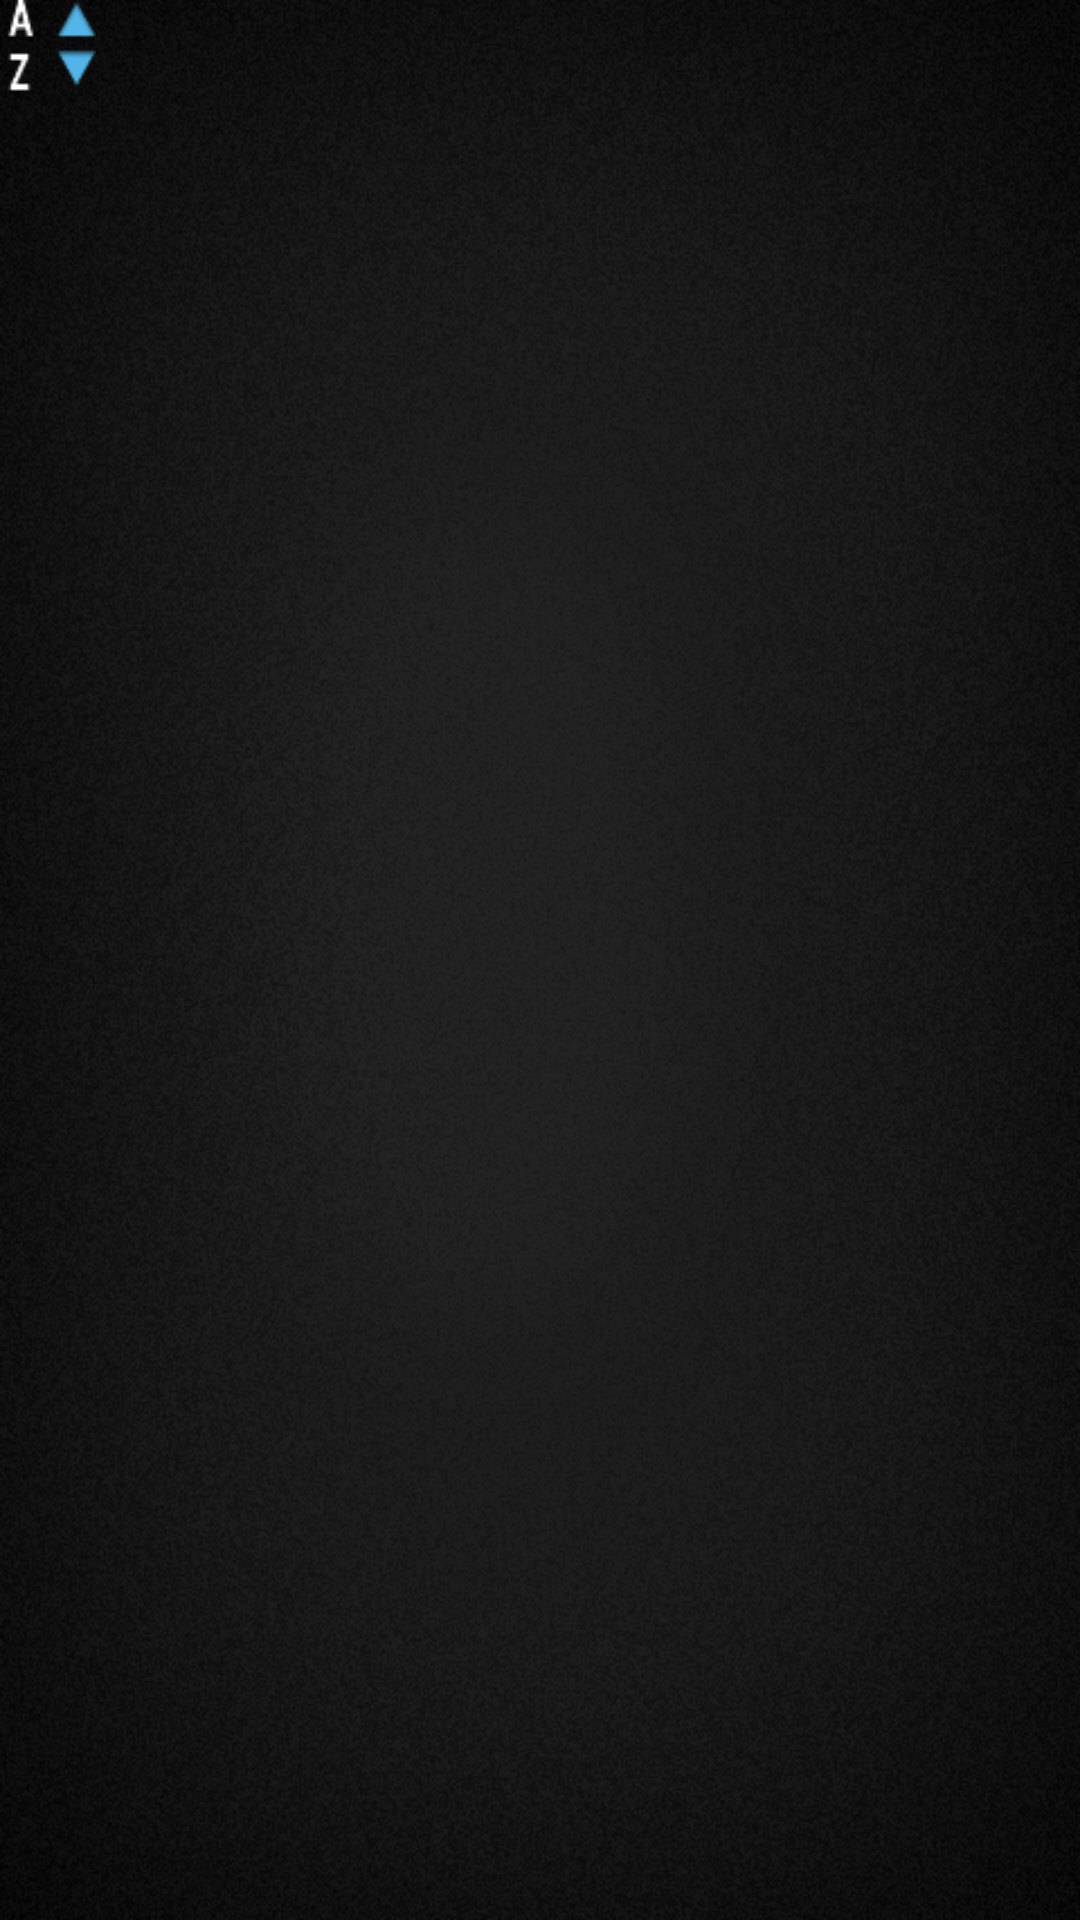

Named icons in this screenshot (1080×1920) and their bounding boxes, (x1, y1, x2, y2):
contact list order: (8, 0, 96, 91)
